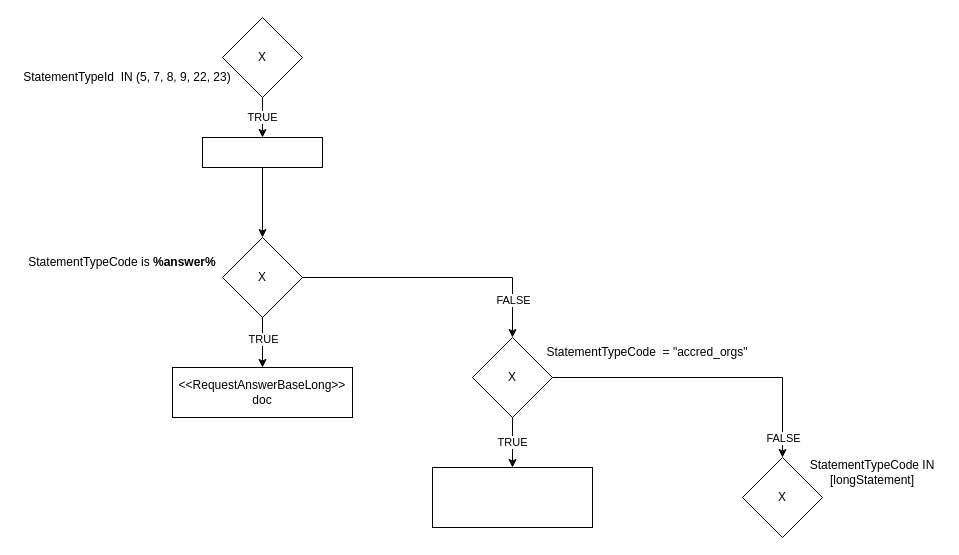
The diagram is 959 pixels wide and 555 high, and some of its shapes have lost their labels. Each missing label, with the centre of its shape:
"<<AccreditationStatement>> doc" goes at point (512, 497).
"doc" goes at point (262, 152).
